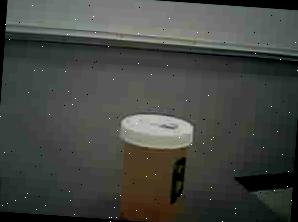Bottle B: (101, 105, 210, 222)
